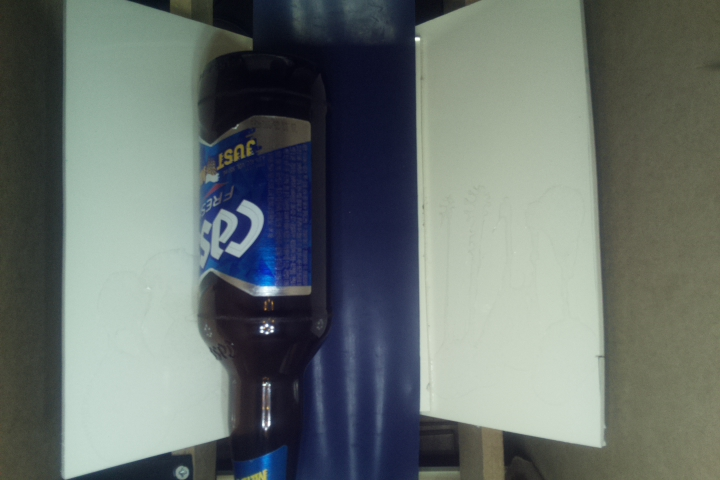makju: (193, 54, 334, 480)
